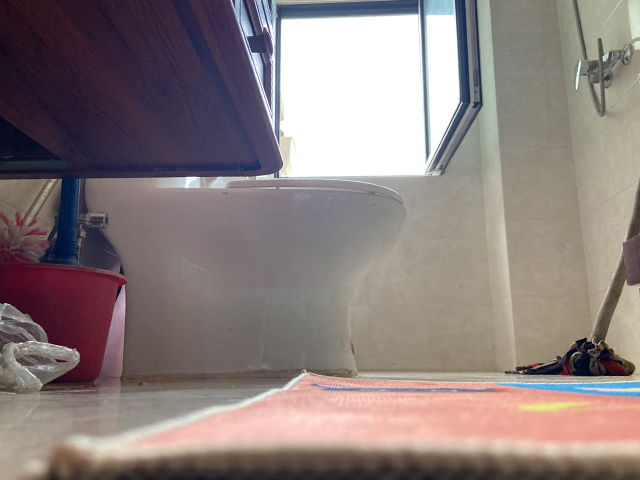carpet: (48, 368, 640, 479)
closestool: (85, 176, 408, 384)
